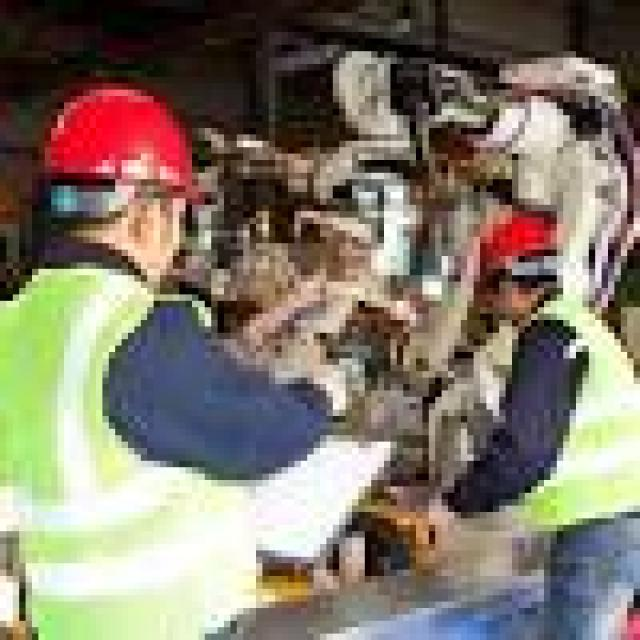Reflective-Jacket: (0, 256, 269, 634), (473, 294, 640, 569)
Safety-Helmet: (13, 70, 237, 230), (454, 192, 582, 294)
